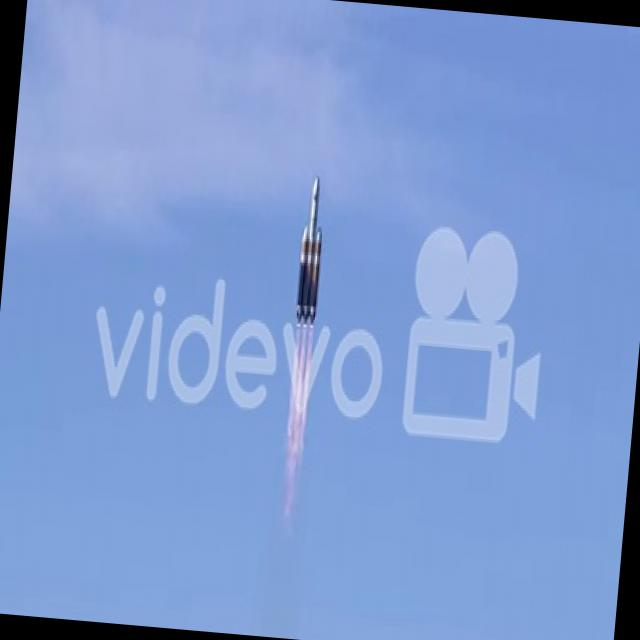rocket: (280, 172, 334, 472)
